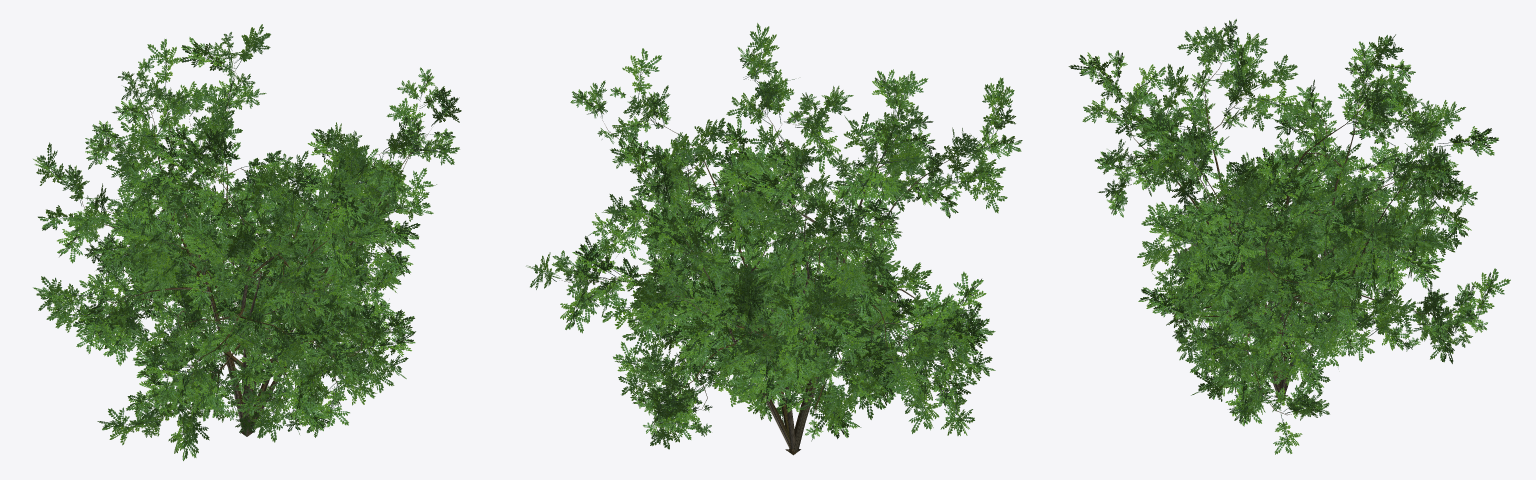
File: bush.glb
3 views of the same model, side by side, from view 1: azimuth 30°, elevation 25°; view 2: azimuth 150°, elevation 25°; view 3: azimuth 270°, elevation 25° (orthographic). The views are drawn at different scales.
Visible parts, largest first — view 1: Tree; view 2: Tree; view 3: Tree.
Boxes of the visible parts, x1,y1,x2,y2 form: Tree: [33, 24, 461, 460]; Tree: [526, 23, 1022, 455]; Tree: [1068, 19, 1510, 454].
Bounding box in the file's own units: 1.86 × 1.65 × 1.89.
Materials: 2 (2 with a texture image).
